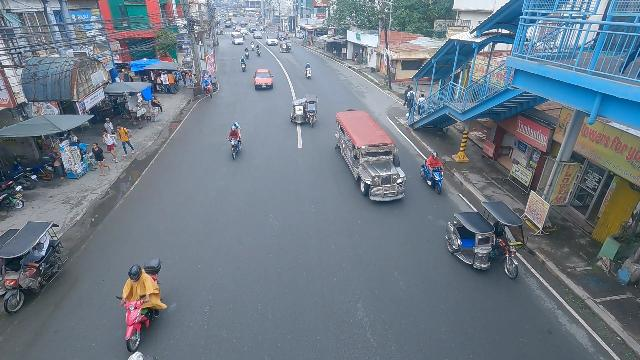car: (252, 69, 274, 91), (265, 35, 278, 46), (253, 31, 262, 40), (240, 29, 248, 36)
jeepney: (333, 108, 406, 202)
motorcycle: (117, 261, 163, 355), (421, 154, 447, 194), (226, 122, 242, 160), (303, 62, 312, 80), (239, 58, 247, 72), (256, 44, 261, 56), (250, 40, 255, 51), (244, 46, 249, 57)
van: (231, 32, 244, 44)
